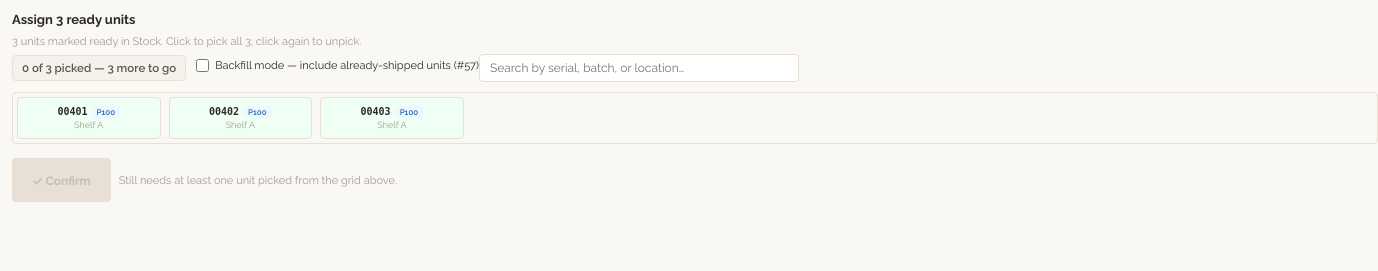
it: StepAssign — picking the machines an order is for › counts up as units are picked and reports completeness
Click the text "00401" at [89, 112], box [57, 106, 120, 118]
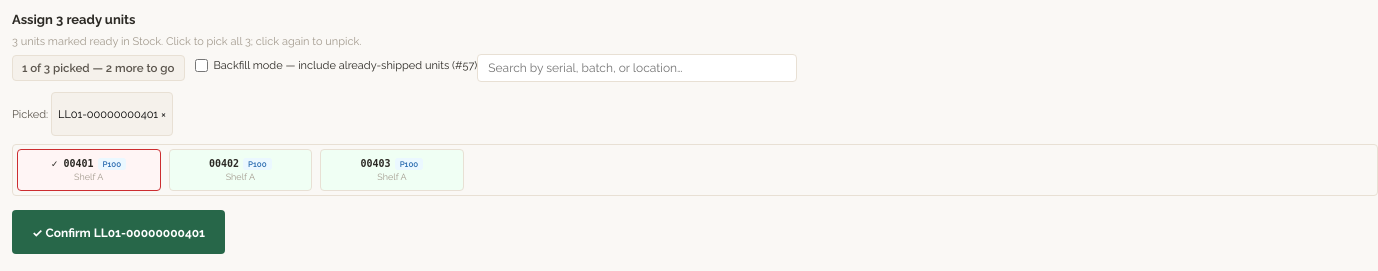
Check: the text "1 of 3 picked — 2 more to go" is shown, box [12, 55, 184, 81]
Click the text "00402" at [240, 164], box [209, 158, 272, 170]
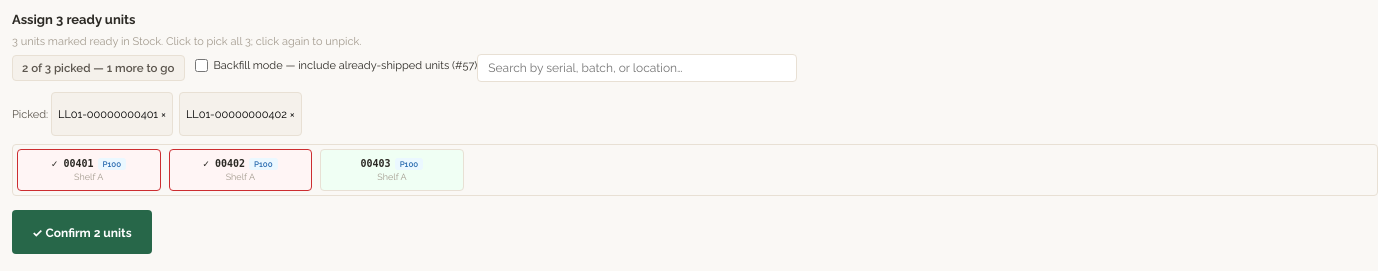
Click the text "00403" at [392, 164], box [360, 158, 423, 170]
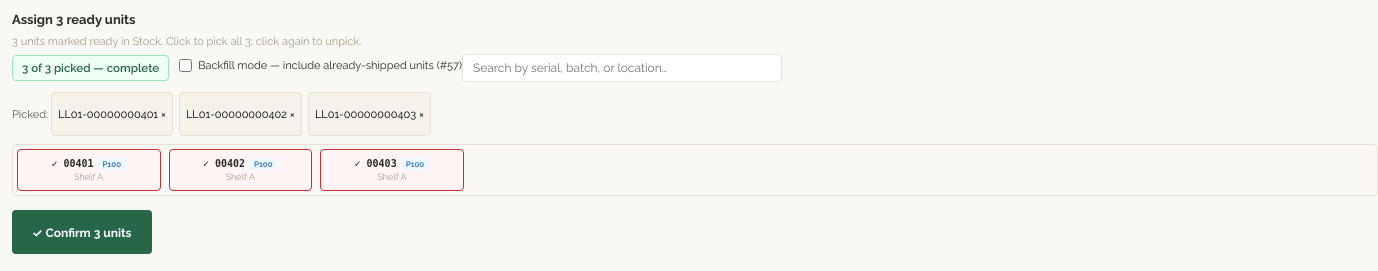
Check: the text "3 of 3 picked — complete" is shown, box [12, 55, 169, 81]
